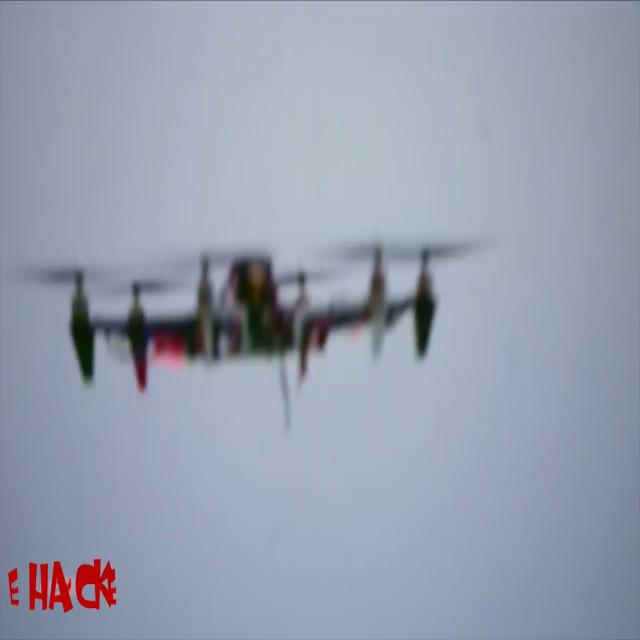drone: (32, 243, 460, 387)
